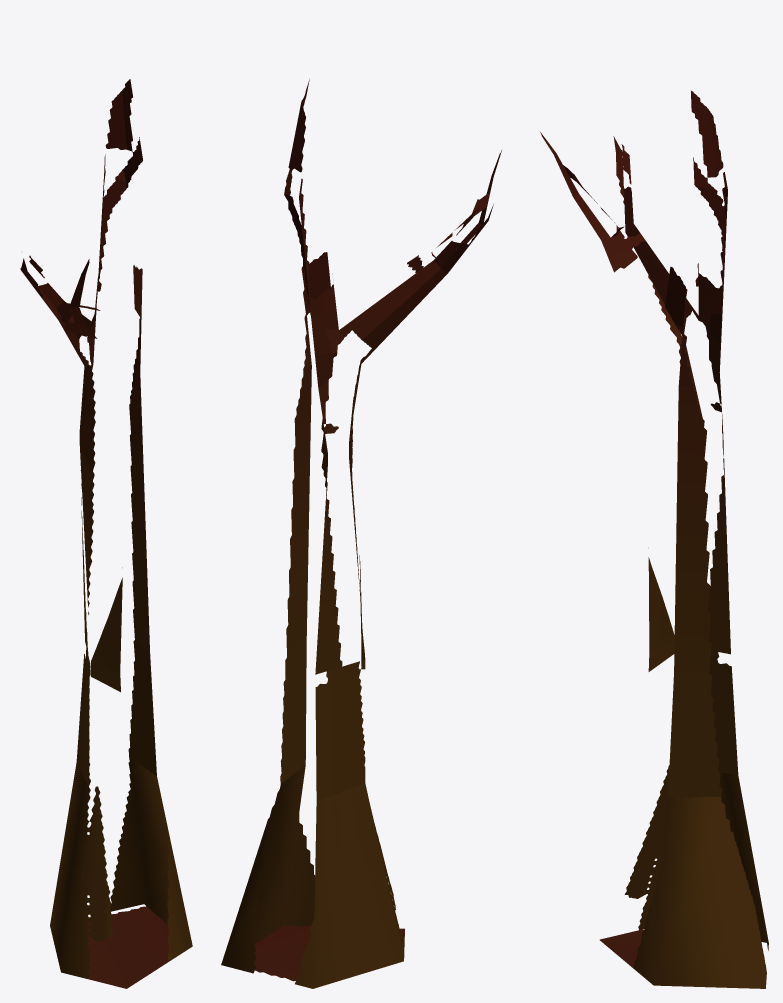
Rendered from drzewo6.obj.
3 views of the same model, side by side, from view 1: azimuth 30°, elevation 25°; view 2: azimuth 150°, elevation 25°; view 3: azimuth 270°, elevation 25° (orthographic).
Parts seen in each view (by area): view 1: Cylinder003; view 2: Cylinder003; view 3: Cylinder003.
Part boxes in pixels (<box>): Cylinder003: <box>20,79,192,988</box>; Cylinder003: <box>221,79,501,988</box>; Cylinder003: <box>540,90,768,988</box>.
Bounding box in the file's own units: 18.76 × 80.51 × 18.08.
